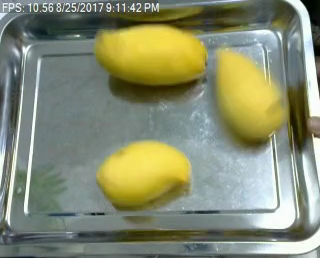Mango: (92, 22, 208, 90), (211, 48, 287, 146), (95, 139, 191, 208)
